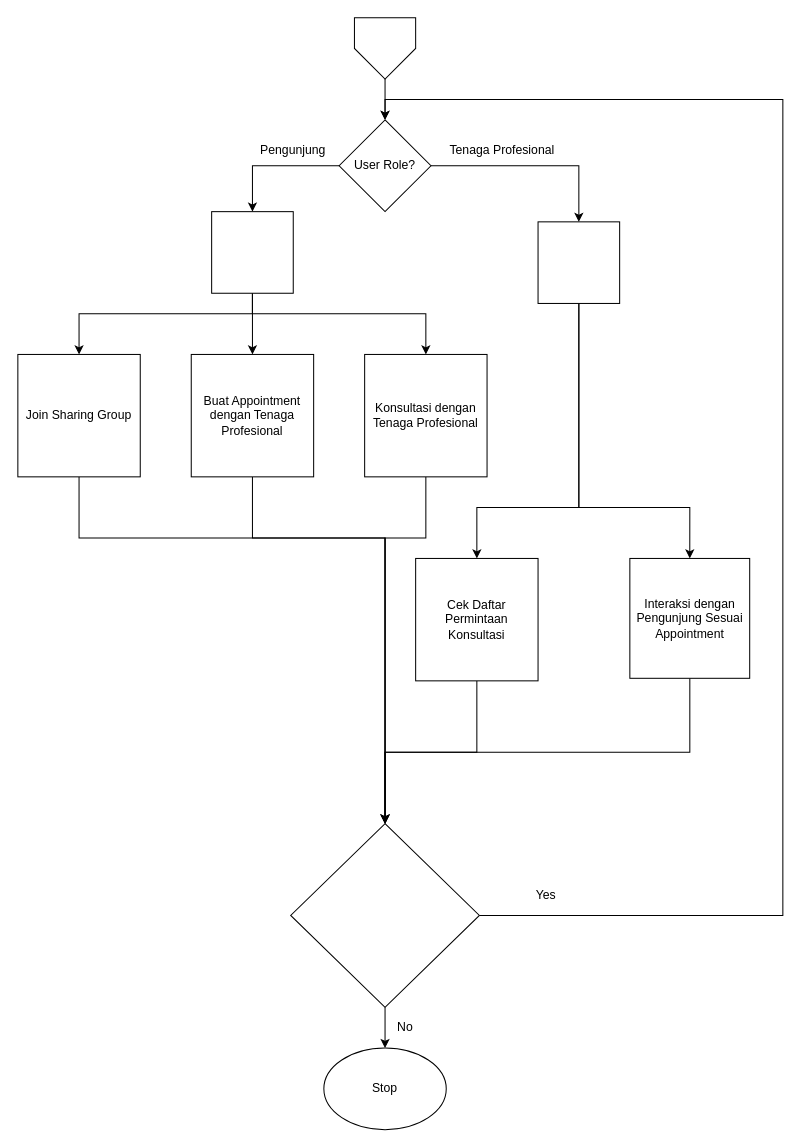
The diagram is 809 pixels wide and 1148 high, and some of its shapes have lost their labels. Each missing label, with the centre of its shape:
Dashboard Pengunjung: the point at 252,252
Dashboard Tenaga Profesional: the point at 578,262
Lanjut Menggunakan Situs ?: the point at 384,915
